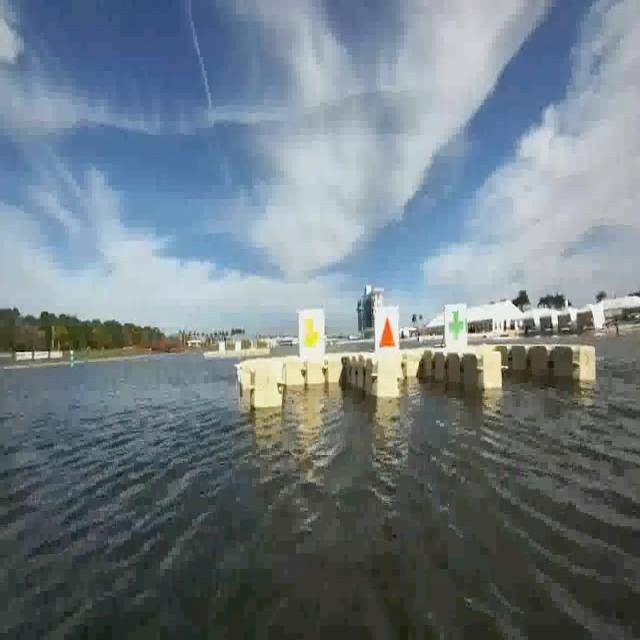blue-cross: (444, 303, 466, 342)
red-dot: (374, 306, 398, 349)
yellow-duck: (299, 311, 325, 356)
